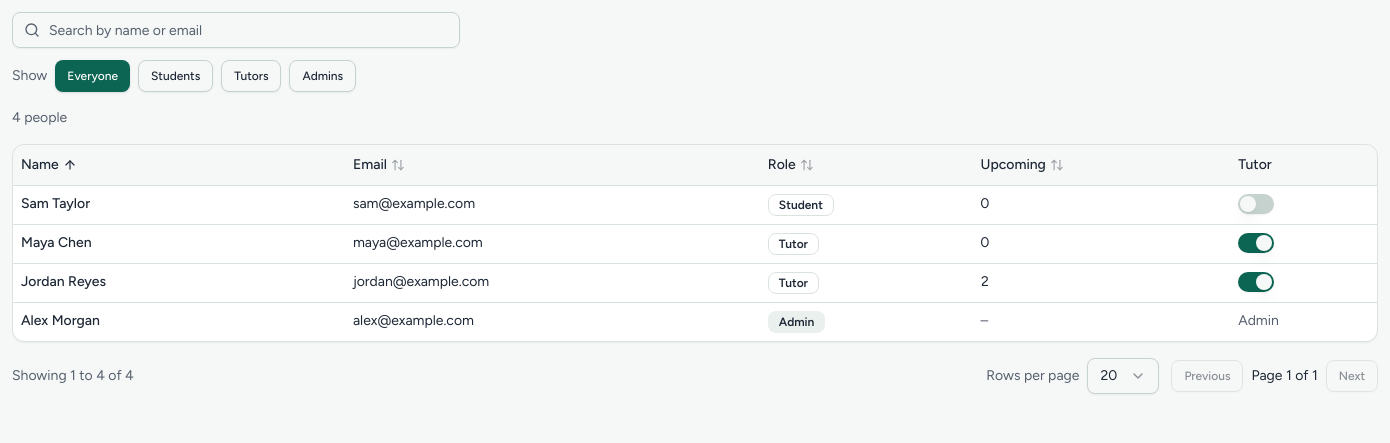
turning someone into a tutor › turns off a tutor with nothing coming up straight away, with no question
The width and height of the screenshot is (1390, 443).
Expected: the cell "Sam Taylor" is shown, [13, 186, 345, 224]
Click the switch named "Tutor: Maya Chen": (1256, 242) [1238, 232, 1274, 252]
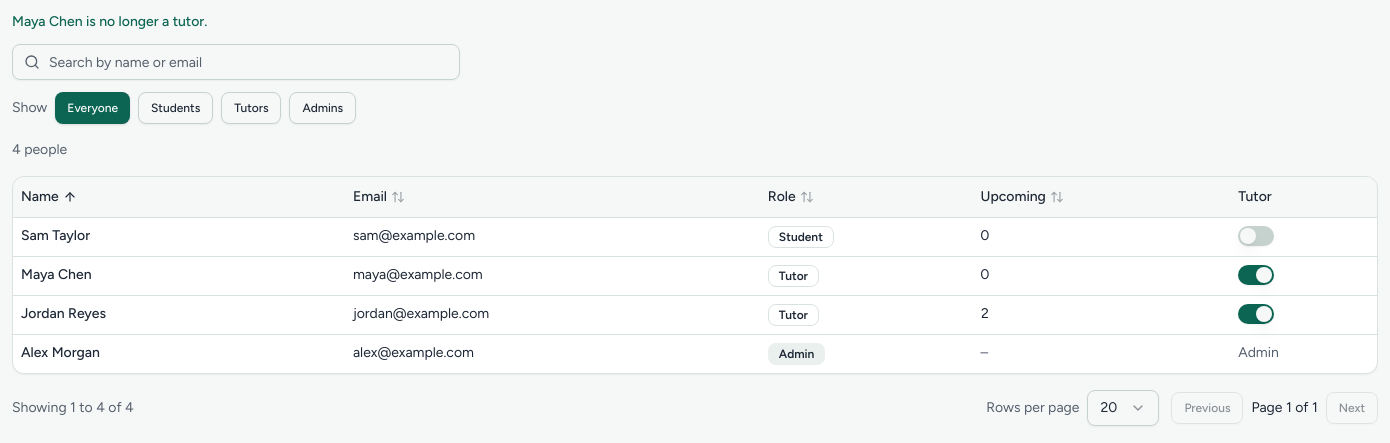
Now the text "Maya Chen is no longer a tutor." is shown, box [12, 13, 207, 30]
